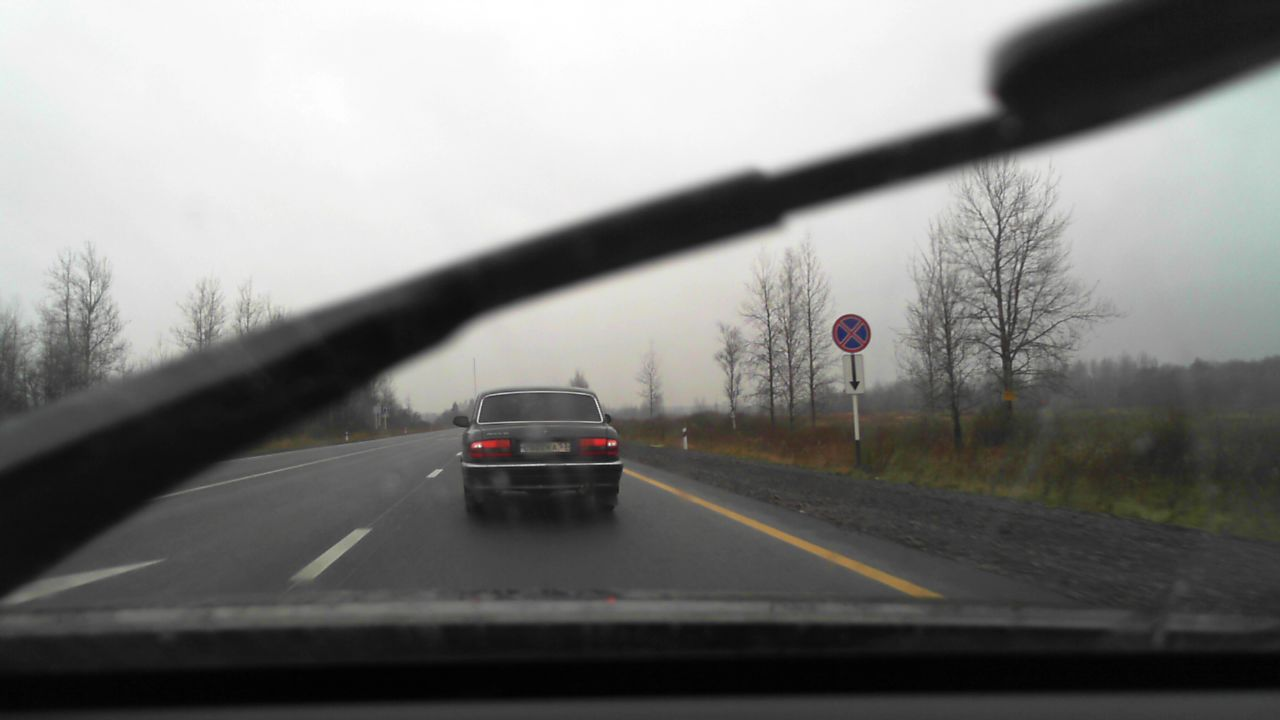No Parking: (831, 313, 871, 353)
